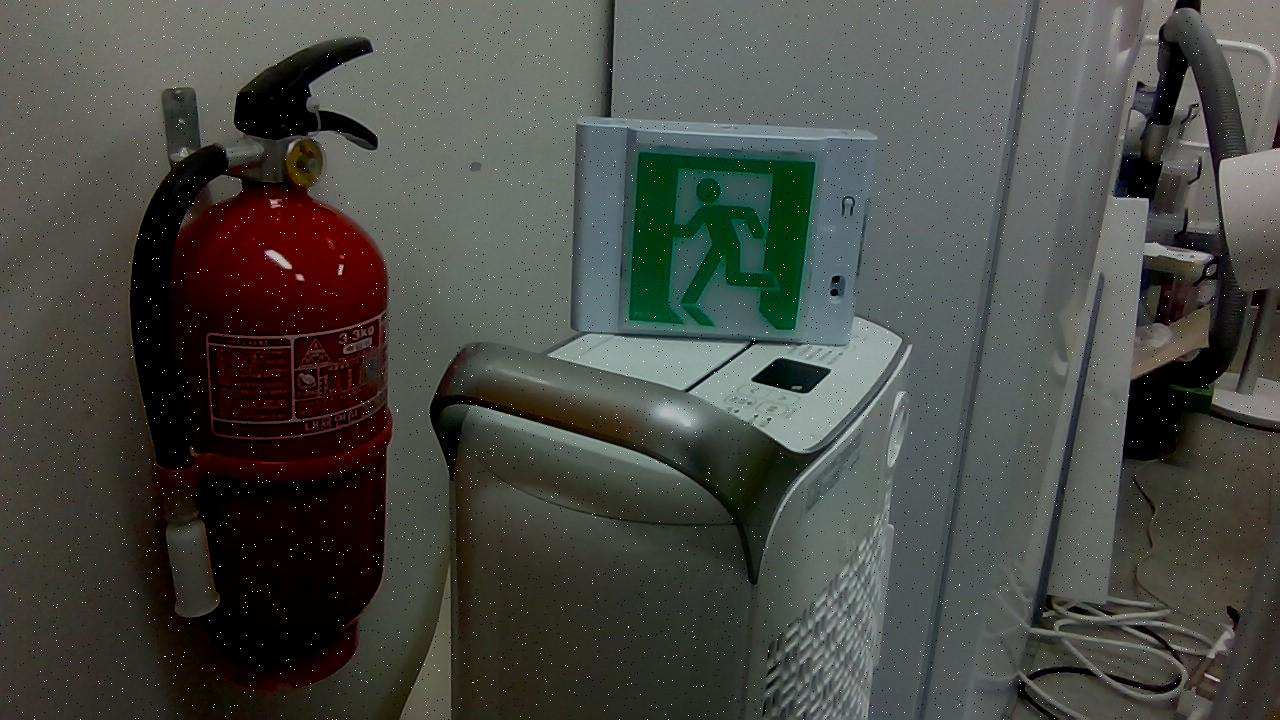emergency_exit: (128, 35, 395, 688), (570, 115, 879, 347)
